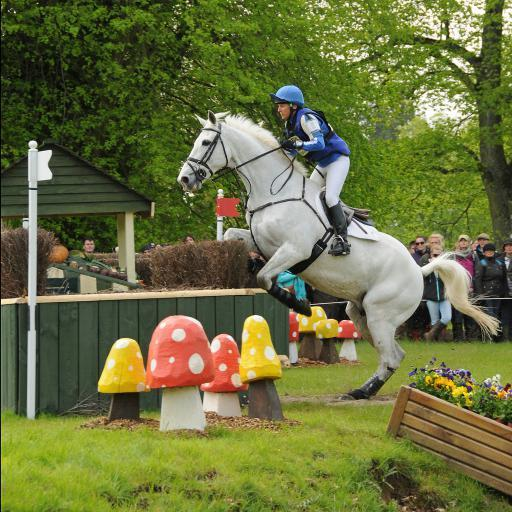horse: (176, 110, 504, 403)
